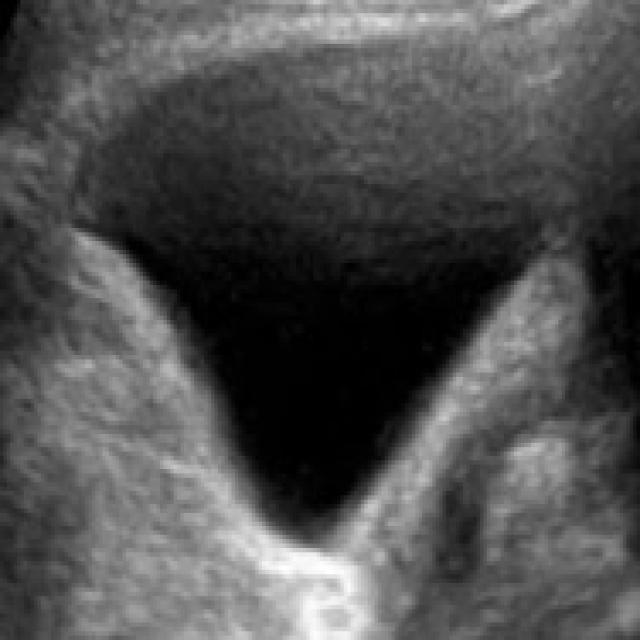bladder: (20, 20, 600, 608)
